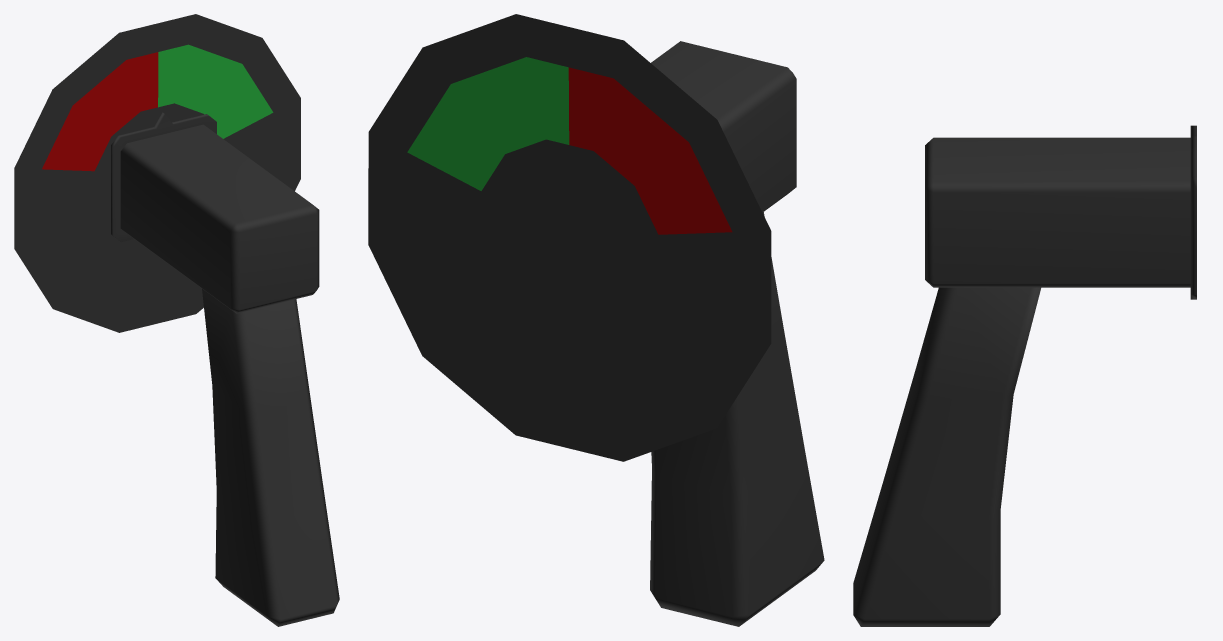
File: VCB_door_ST2.fbx
3 views of the same model, side by side, from view 1: azimuth 30°, elevation 25°; view 2: azimuth 150°, elevation 25°; view 3: azimuth 270°, elevation 25° (orthographic). The views are drawn at different scales.
Parts seen in each view (by area): view 1: LPS_STICK1; view 2: LPS_STICK1; view 3: LPS_STICK1.
Part boxes in pixels (bbox=[...]): LPS_STICK1: bbox=[14, 14, 339, 626]; LPS_STICK1: bbox=[368, 14, 824, 626]; LPS_STICK1: bbox=[853, 125, 1196, 626].
Size of the model in its own units: 0.0664 by 0.1081 by 0.0606.
1 material, 1 textured.
